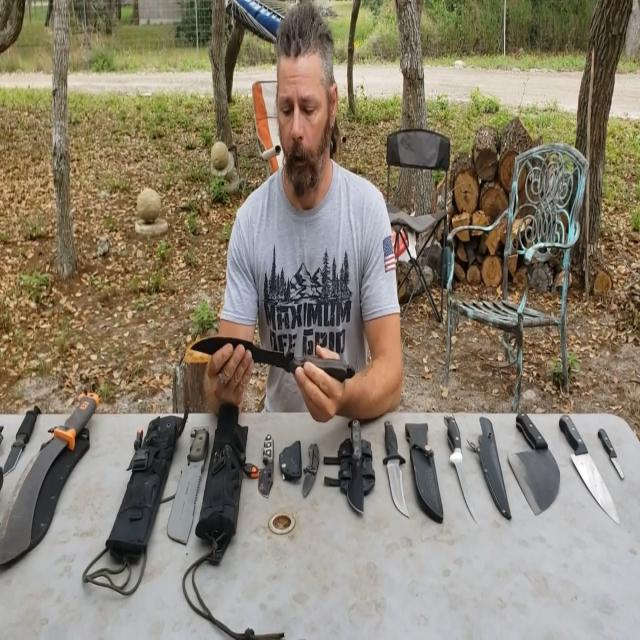knife: (0, 393, 108, 572), (190, 323, 372, 390), (156, 413, 225, 561), (554, 404, 620, 529), (500, 407, 566, 522), (438, 403, 482, 525), (0, 401, 47, 504), (343, 403, 375, 533), (592, 397, 634, 490), (381, 416, 414, 523), (250, 426, 284, 507), (294, 429, 320, 510)
